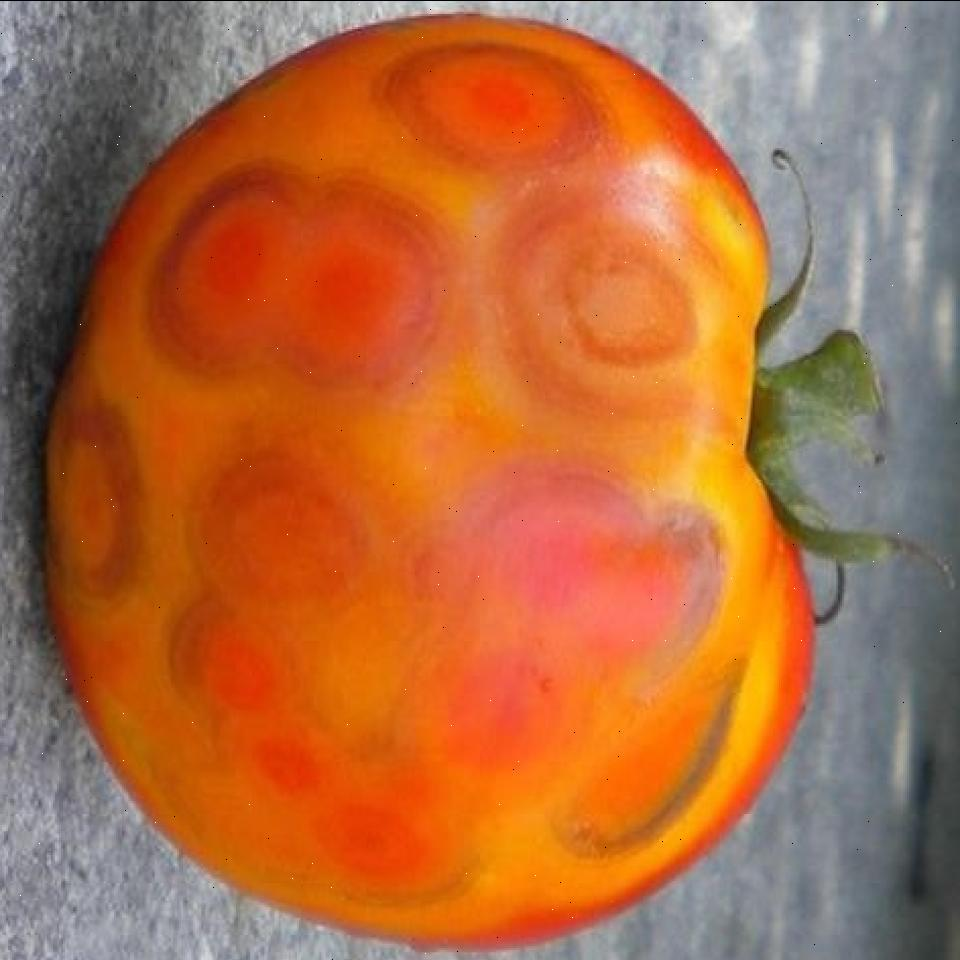Spotted wilt Virus: (47, 8, 824, 950)
